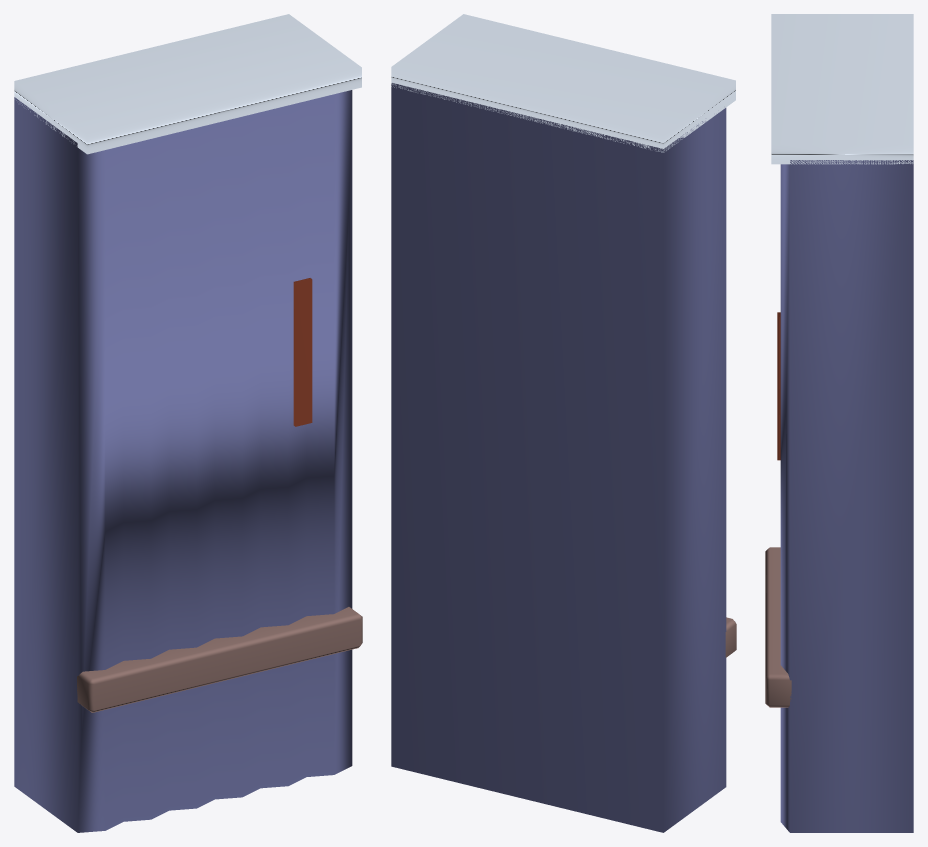
The model's file is wall_barn.glb.
3 views of the same model, side by side, from view 1: azimuth 30°, elevation 25°; view 2: azimuth 150°, elevation 25°; view 3: azimuth 270°, elevation 25° (orthographic). The views are drawn at different scales.
Parts seen in each view (by area): view 1: Wall; view 2: Wall; view 3: Wall.
Part boxes in pixels (left/top/right/bottom): Wall: left=14, top=14, right=362, bottom=832; Wall: left=391, top=14, right=736, bottom=832; Wall: left=765, top=14, right=913, bottom=832.
Size of the model in its own units: 1 by 2.46 by 0.48.
